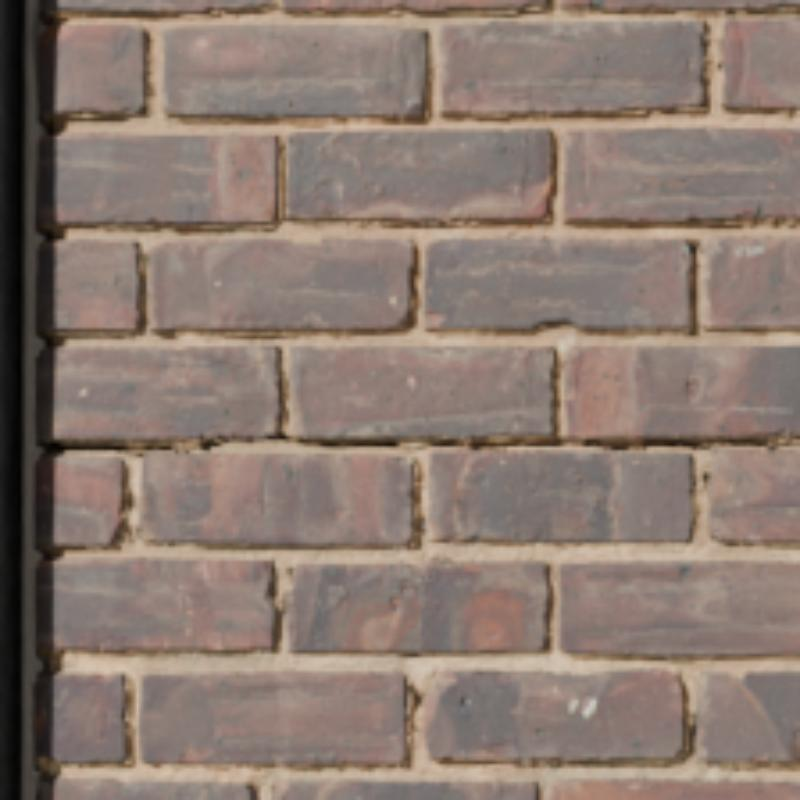pothole: (200, 432, 406, 446), (417, 439, 796, 446), (68, 443, 200, 454)
